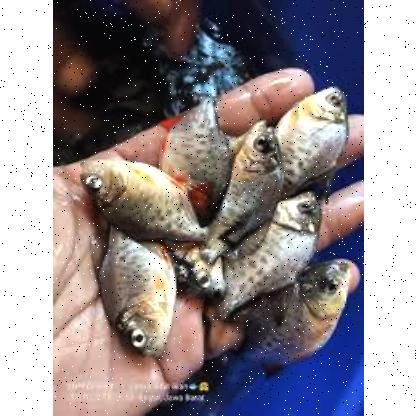ikan-pacu: (216, 194, 330, 300), (242, 264, 352, 366), (96, 231, 180, 357), (204, 122, 282, 246), (79, 156, 201, 234), (277, 80, 355, 178)
